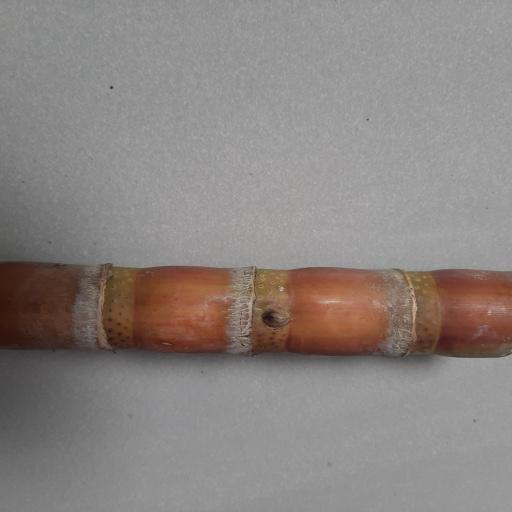Bud: (261, 308, 291, 326)
